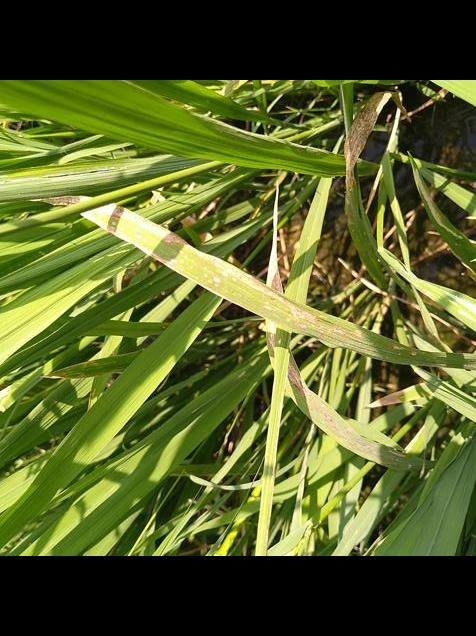Leaf Streak: (81, 204, 413, 365), (287, 348, 423, 469), (408, 154, 476, 258), (344, 91, 393, 208), (265, 183, 282, 293), (43, 357, 128, 379), (44, 361, 123, 380), (363, 386, 420, 409), (33, 196, 112, 212), (264, 319, 276, 368)
